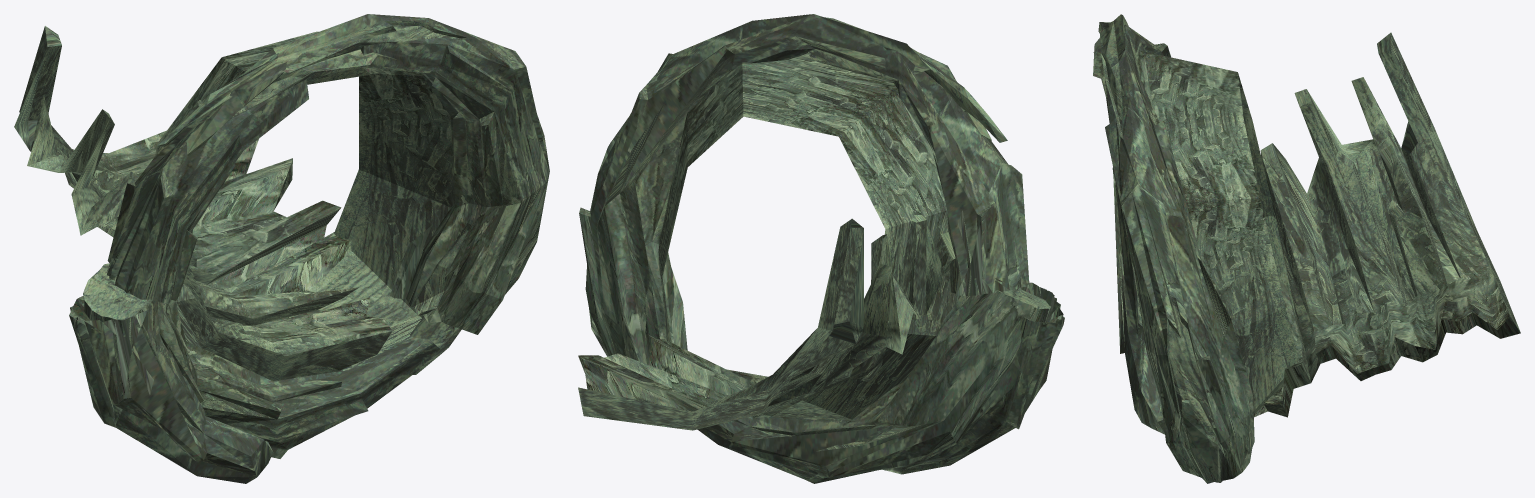
Rendered from 10104_CStone08.FBX.
3 renders of one model, left to right at view 1: azimuth 30°, elevation 25°; view 2: azimuth 150°, elevation 25°; view 3: azimuth 270°, elevation 25°, orthographic. The views are drawn at different scales.
Visible parts, largest first — view 1: Plane017; view 2: Plane017; view 3: Plane017.
Part boxes in pixels (x1,y1,x2,y2): Plane017: (14, 14, 549, 483); Plane017: (578, 14, 1064, 483); Plane017: (1093, 14, 1520, 483).
Bounding box in the file's own units: 566 × 510 × 457.
